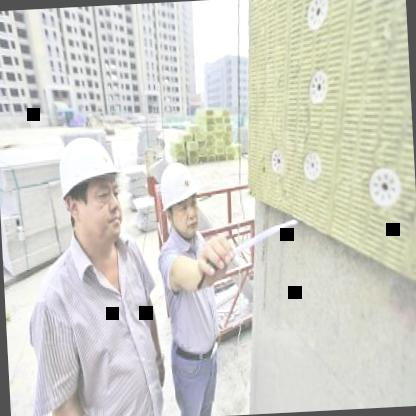helmet: (47, 121, 132, 260), (157, 156, 202, 239)
